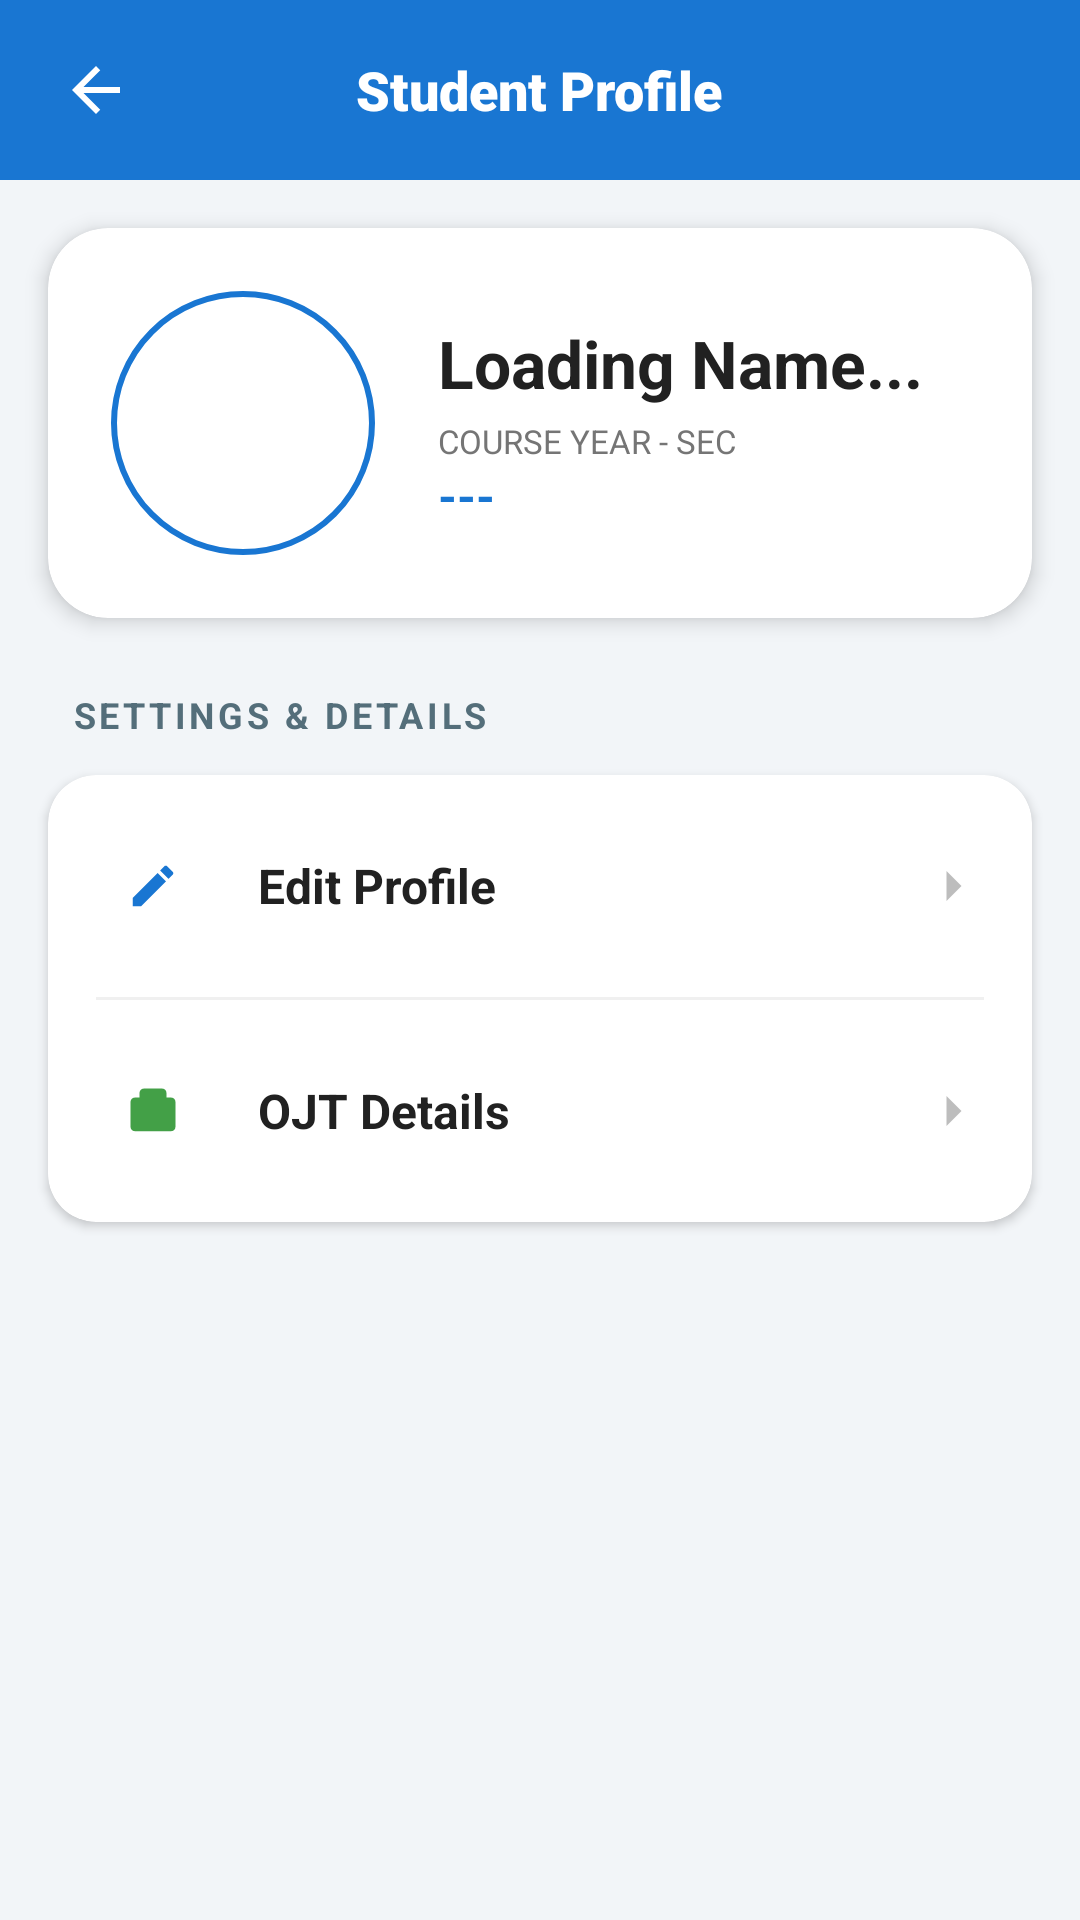

Icons on this 1080*1920 Android screen, each with its box as (x1, y1, x2, y2):
arrow back: (72, 66, 120, 114)
chevron right: (946, 871, 961, 901), (946, 1096, 961, 1126)
work: (130, 1088, 176, 1132)
